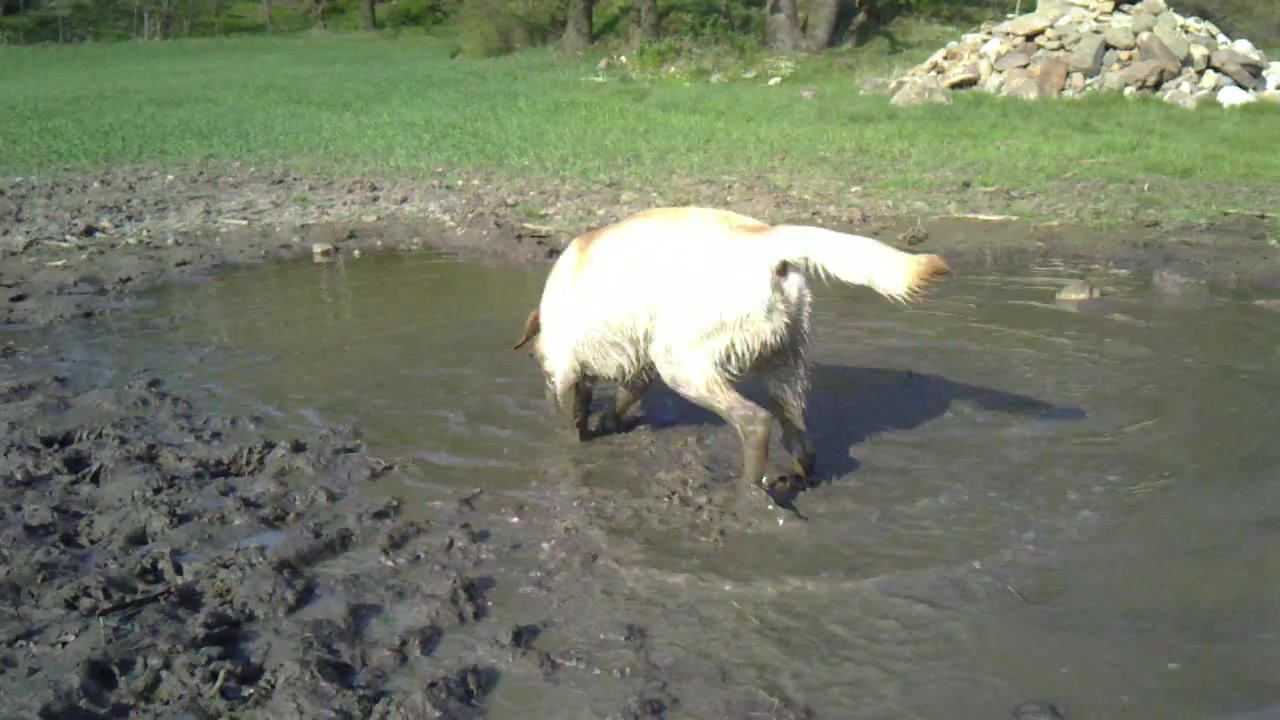dog: (511, 207, 947, 498)
